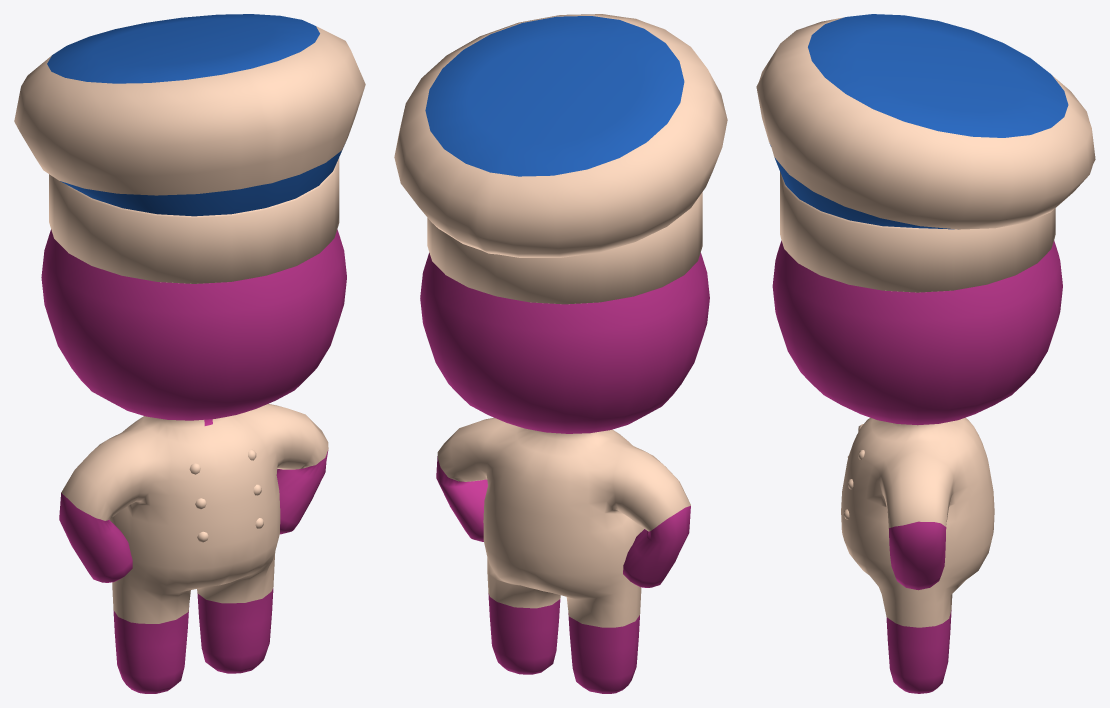
File: skin_img.fbx
3 renders of one model, left to right at view 1: azimuth 30°, elevation 25°; view 2: azimuth 150°, elevation 25°; view 3: azimuth 270°, elevation 25°, orthographic. The views are drawn at different scales.
Parts seen in each view (by area): view 1: skin_img; view 2: skin_img; view 3: skin_img.
Part boxes in pixels (box(x1,y1,x2,y2)): skin_img: box(14, 14, 365, 693); skin_img: box(394, 14, 727, 693); skin_img: box(756, 14, 1095, 693).
Size of the model in its own units: 1.84 by 3.76 by 1.86.
